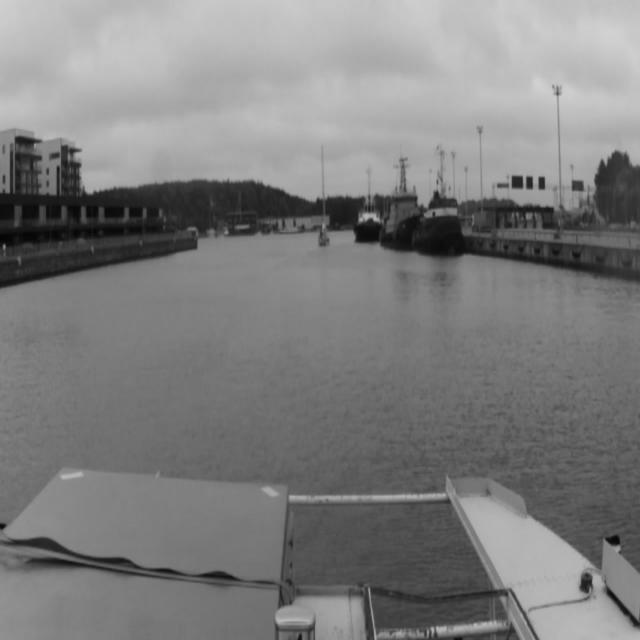ship: (409, 184, 469, 262), (383, 156, 412, 249), (354, 196, 380, 241), (318, 147, 328, 245)
